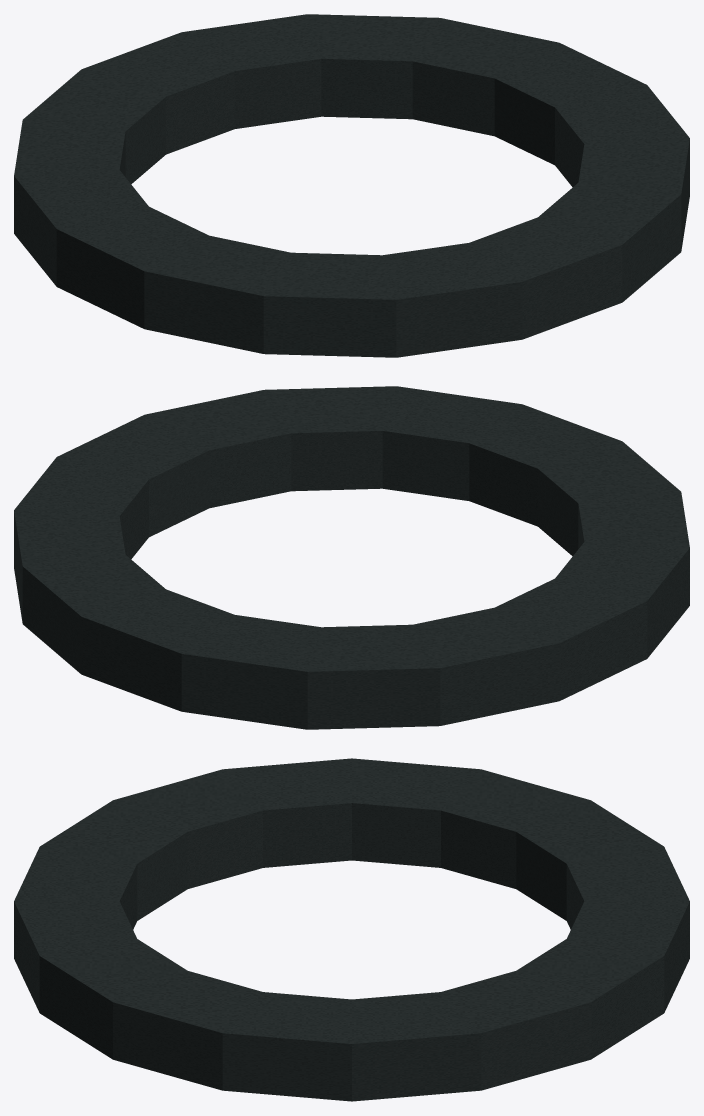
File: SpareSeal.fbx
3 views of the same model, one above another, from view 1: azimuth 30°, elevation 25°; view 2: azimuth 150°, elevation 25°; view 3: azimuth 270°, elevation 25° (orthographic).
Parts seen in each view (by area): view 1: SpareSeal; view 2: SpareSeal; view 3: SpareSeal.
Boxes of the visible parts, left/top/right/bottom form: SpareSeal: left=14, top=14, right=689, bottom=357; SpareSeal: left=14, top=386, right=689, bottom=729; SpareSeal: left=14, top=758, right=689, bottom=1101.
Bounding box in the file's own units: 64 × 6 × 64.
